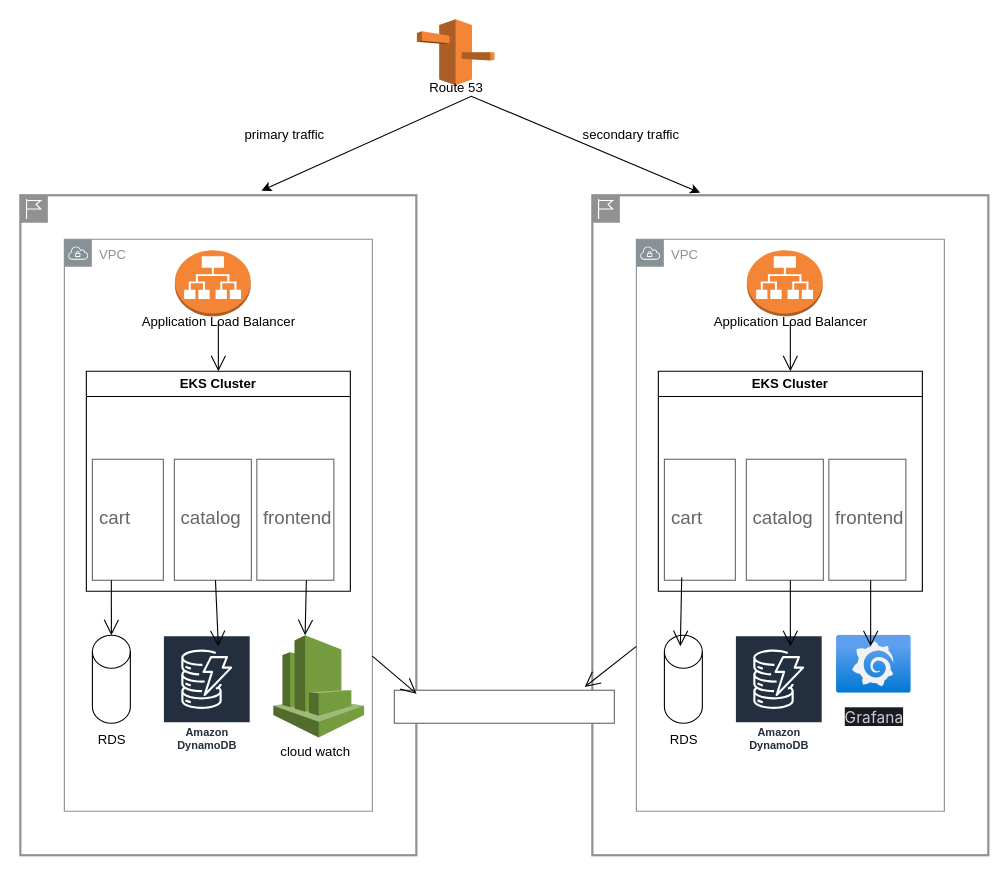
This 1008x876 diagram has some shape labels left out. Here are the shapes that lost their labels. From the top down, the box of each, then its label:
(19, 194, 417, 856): us-east-1
(591, 194, 989, 856): us-west-1
(393, 689, 614, 723): AWS CI/CD PipeLine
